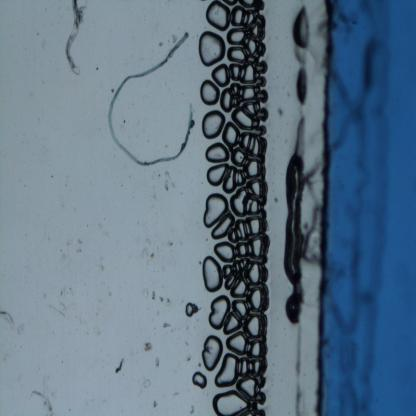Air bubble: (229, 2, 275, 410), (202, 193, 234, 237), (198, 32, 227, 66), (212, 389, 251, 414), (215, 352, 237, 388), (209, 295, 230, 332), (206, 1, 231, 30), (202, 257, 223, 291), (202, 336, 223, 370), (202, 110, 225, 138), (212, 238, 236, 263), (205, 141, 230, 163), (206, 164, 229, 186), (212, 62, 230, 90), (200, 80, 220, 105), (192, 372, 208, 389), (186, 303, 194, 318), (150, 293, 156, 300)
Background material: (285, 3, 307, 325), (32, 379, 55, 413), (0, 304, 14, 328), (112, 357, 126, 375), (186, 402, 196, 414), (143, 340, 153, 352), (142, 377, 152, 388), (194, 304, 202, 316), (160, 321, 171, 329), (154, 355, 161, 367), (64, 238, 72, 247), (172, 32, 178, 43), (166, 239, 174, 247), (77, 238, 85, 246), (165, 180, 170, 192), (146, 238, 152, 247), (196, 257, 202, 266), (152, 399, 157, 409), (166, 297, 172, 304), (165, 171, 171, 178), (196, 360, 201, 367), (185, 358, 191, 363), (99, 265, 104, 271), (159, 295, 163, 302), (77, 248, 82, 253), (150, 253, 154, 259)
Cellulose filter fibre: (63, 1, 86, 76)
Cotton: (107, 31, 197, 168)
Easylift tab: (319, 1, 416, 415)
Edge of slide: (314, 1, 328, 415)
